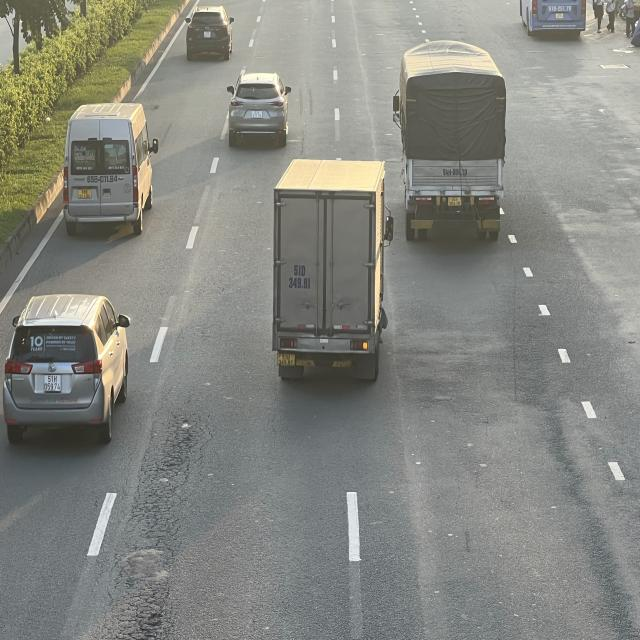car: (3, 291, 133, 442), (223, 70, 290, 146), (185, 4, 236, 59)
coach: (520, 0, 590, 36)
truck: (271, 159, 392, 387), (394, 44, 508, 242)
van: (61, 100, 156, 234)
